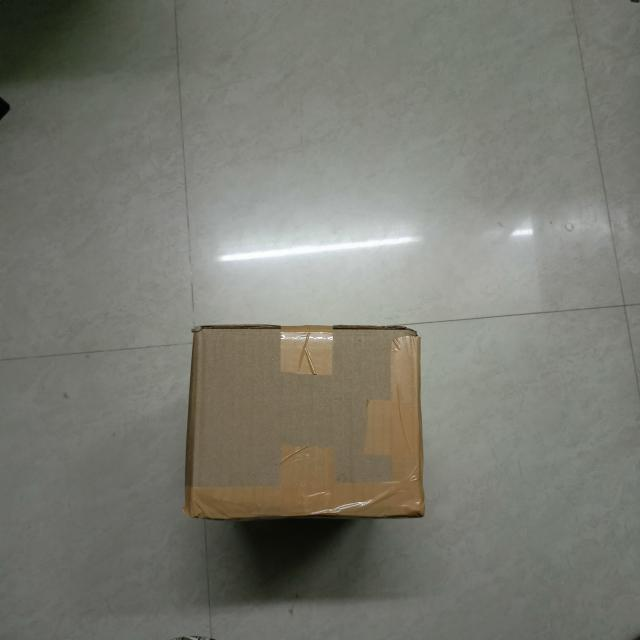box: (196, 331, 424, 518)
